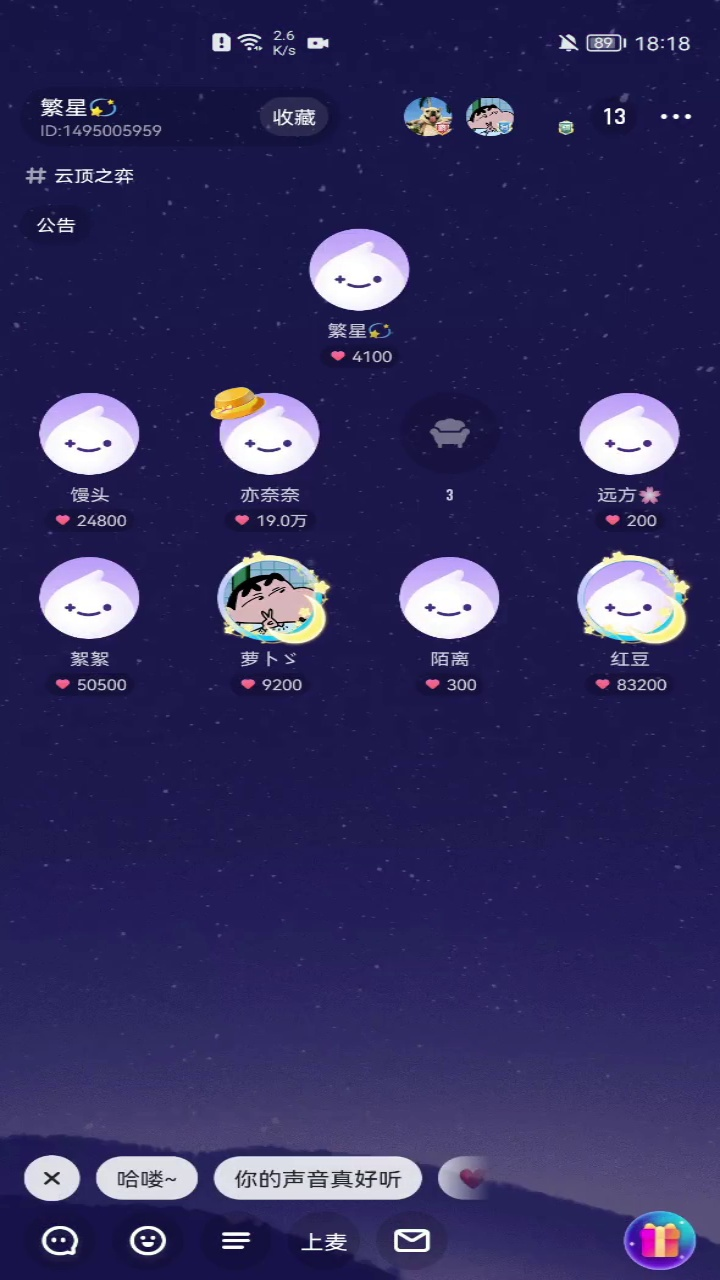avatar: (567, 542, 695, 649), (205, 378, 329, 481), (392, 546, 507, 645), (569, 381, 687, 477), (32, 550, 147, 644), (301, 224, 417, 313), (37, 384, 143, 480)
